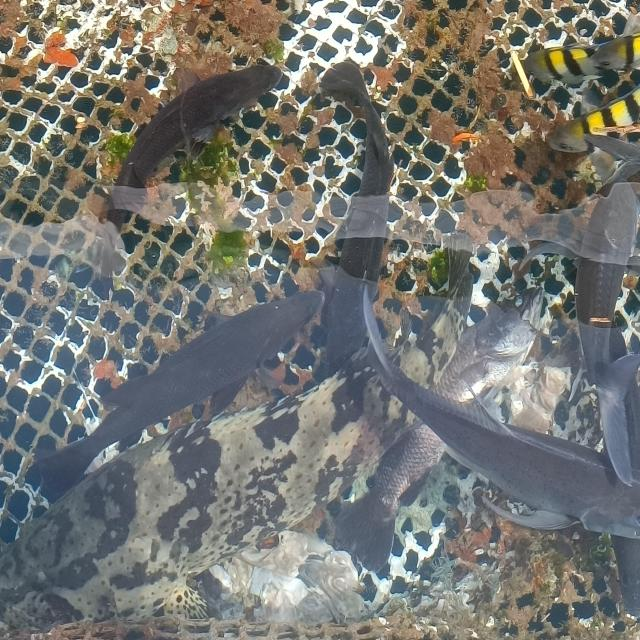ikan: (377, 370, 640, 609), (23, 289, 322, 482), (87, 61, 282, 286), (410, 236, 539, 414), (544, 75, 640, 158), (518, 30, 640, 92)
